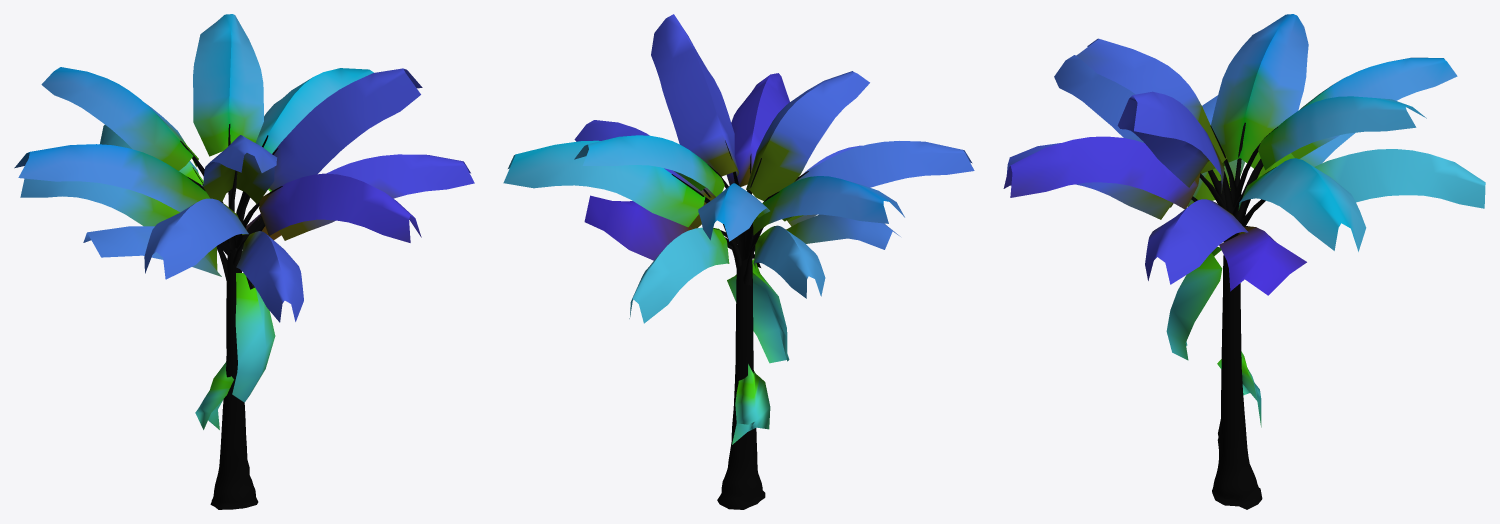
The model's file is BananaTree.fbx.
3 views of the same model, side by side, from view 1: azimuth 30°, elevation 25°; view 2: azimuth 150°, elevation 25°; view 3: azimuth 270°, elevation 25° (orthographic). The views are drawn at different scales.
Parts seen in each view (by area): view 1: BananaTree_var1_LOD0; view 2: BananaTree_var1_LOD0; view 3: BananaTree_var1_LOD0.
Boxes of the visible parts, x1,y1,x2,y2 form: BananaTree_var1_LOD0: (14, 14, 474, 509); BananaTree_var1_LOD0: (503, 14, 974, 509); BananaTree_var1_LOD0: (1003, 14, 1485, 509).
Size of the model in its own units: 7.9 by 8.4 by 7.88.
